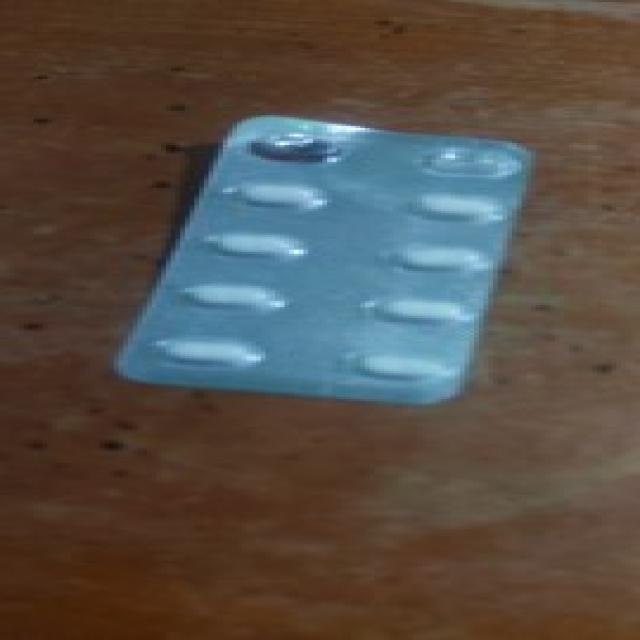Cacat: (110, 113, 538, 405)
Kemasan: (242, 126, 358, 176)
